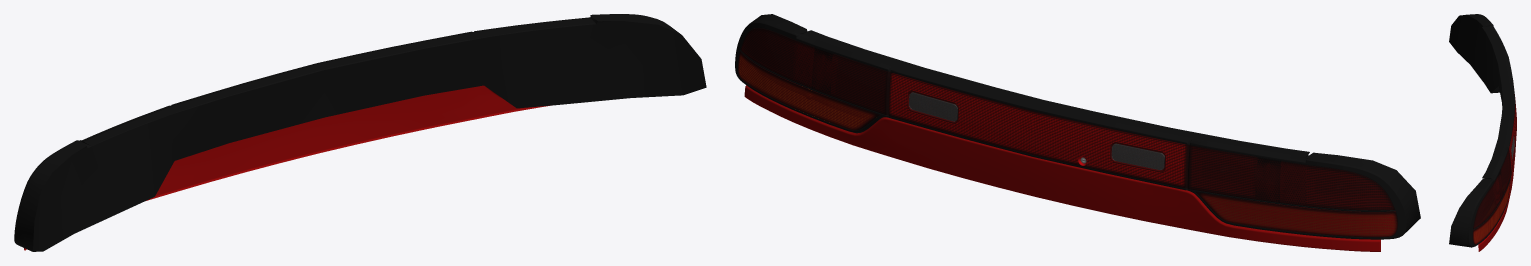
The model's file is taillight_oem.glb.
3 views of the same model, side by side, from view 1: azimuth 30°, elevation 25°; view 2: azimuth 150°, elevation 25°; view 3: azimuth 270°, elevation 25° (orthographic). The views are drawn at different scales.
Visible parts, largest first — view 1: Cover, Garnish, Plastic; view 2: Garnish, Glass Right, Reflector, Glass Left, Plastic, Cover, Reverse; view 3: Cover, Glass Left, Plastic, Garnish, Reflector, Reverse.
Boxes of the visible parts, x1=… form: Cover: x1=16, y1=14, x2=706, y2=251; Garnish: x1=24, y1=85, x2=549, y2=250; Plastic: x1=14, y1=14, x2=647, y2=243; Garnish: x1=744, y1=85, x2=1380, y2=251; Glass Right: x1=1185, y1=144, x2=1397, y2=237; Reflector: x1=889, y1=72, x2=1187, y2=187; Glass Left: x1=738, y1=28, x2=890, y2=130; Plastic: x1=735, y1=21, x2=1407, y2=239; Cover: x1=751, y1=14, x2=1420, y2=239; Reverse: x1=909, y1=92, x2=1164, y2=169; Cover: x1=1449, y1=14, x2=1513, y2=247; Glass Left: x1=1472, y1=149, x2=1510, y2=244; Plastic: x1=1467, y1=14, x2=1515, y2=247; Garnish: x1=1478, y1=145, x2=1515, y2=251; Reflector: x1=1509, y1=94, x2=1516, y2=174; Reverse: x1=1511, y1=136, x2=1514, y2=159.
Bounding box in the file's own units: 1.55 × 0.2 × 0.2189.
9 materials, 7 textured.
